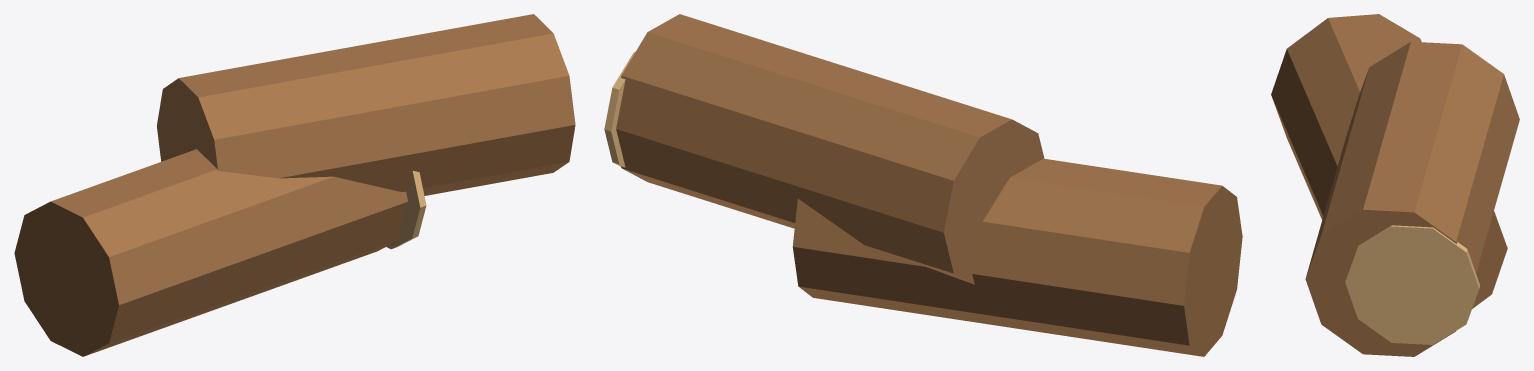
The model's file is resource_wood.glb.
3 views of the same model, side by side, from view 1: azimuth 30°, elevation 25°; view 2: azimuth 150°, elevation 25°; view 3: azimuth 270°, elevation 25° (orthographic). The views are drawn at different scales.
Parts seen in each view (by area): view 1: resource_wood_root; view 2: resource_wood_root; view 3: resource_wood_root.
Boxes of the visible parts, bbox=[...] form: resource_wood_root: bbox=[14, 14, 575, 356]; resource_wood_root: bbox=[604, 14, 1242, 356]; resource_wood_root: bbox=[1271, 14, 1519, 356].
Size of the model in its own units: 1 by 0.3548 by 0.4012.
